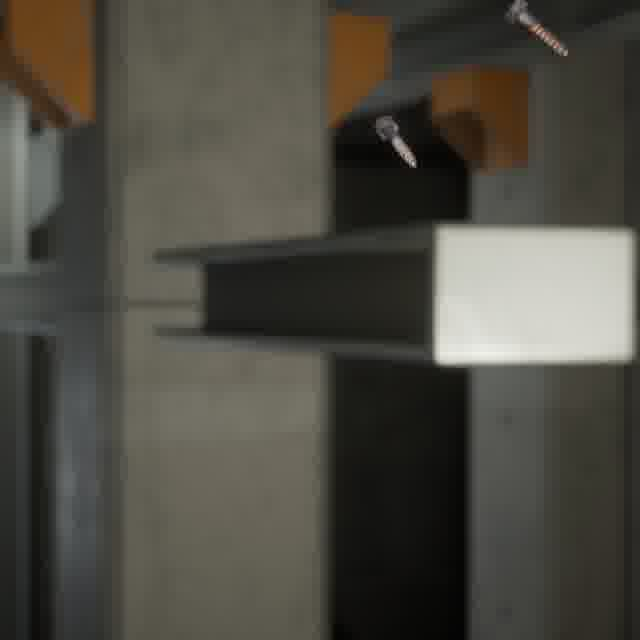bolt: (498, 0, 573, 63), (370, 112, 421, 171)
